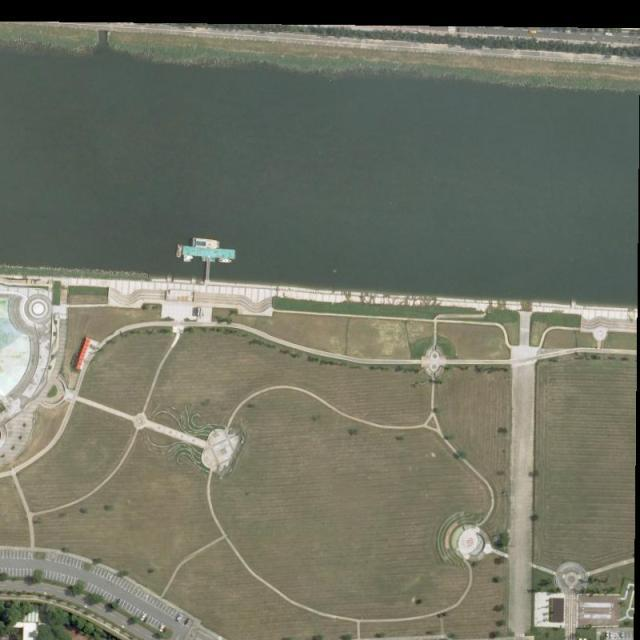vehicle: (176, 613, 182, 622), (160, 624, 166, 633), (115, 598, 121, 606), (144, 615, 150, 622), (185, 618, 190, 626), (141, 614, 146, 621), (529, 30, 537, 34), (610, 632, 614, 639), (605, 32, 611, 36), (606, 632, 609, 638), (621, 633, 624, 638)
